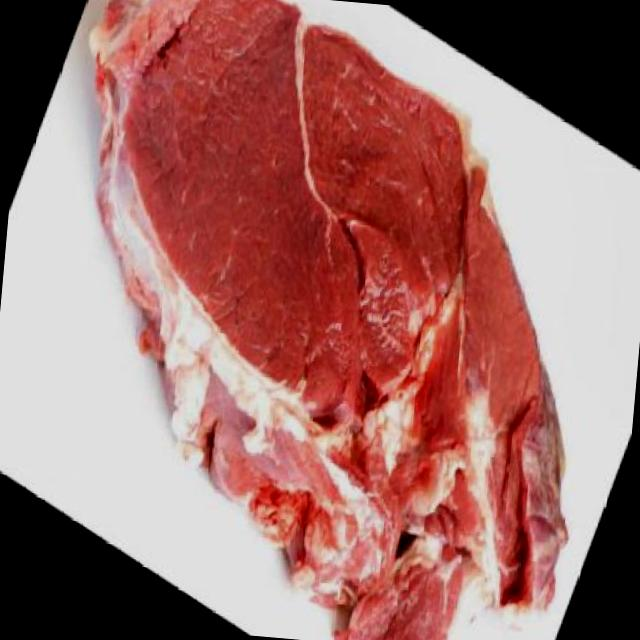beef: (38, 0, 623, 640)
